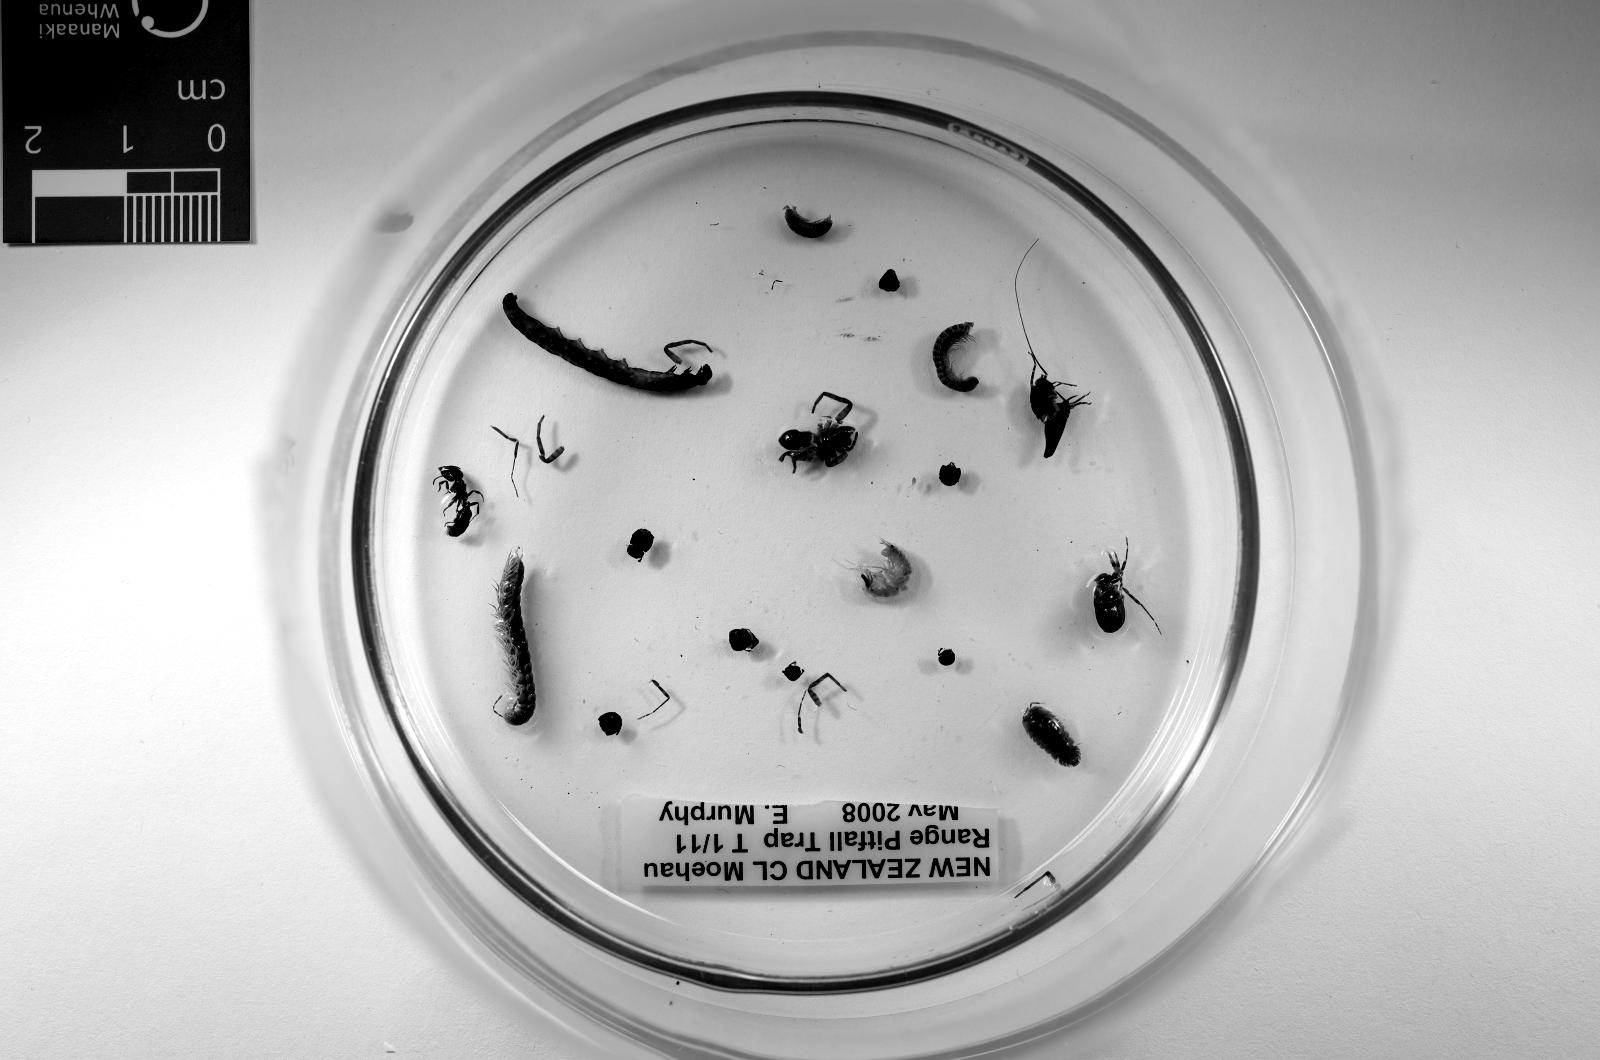amphipoda: (860, 541, 913, 600)
araneae: (778, 392, 860, 468)
coleoptera: (628, 528, 653, 562)
coleoptera_larva: (503, 295, 713, 392)
diplopoda: (497, 550, 535, 726), (934, 323, 978, 392)
formicidae: (434, 466, 481, 537)
isopoda: (1022, 705, 1081, 767), (784, 205, 831, 239)
opiliones: (1094, 552, 1132, 634)
